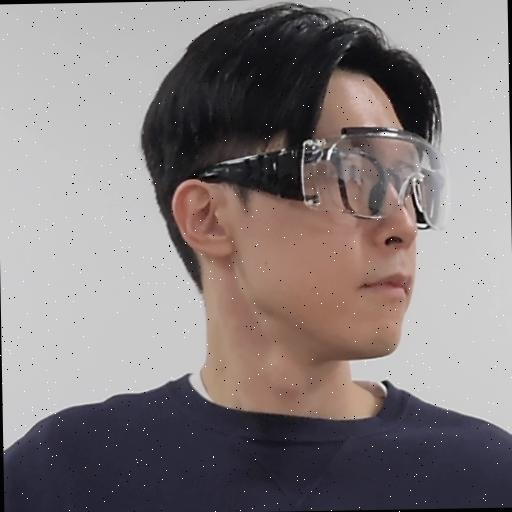glasses: (132, 0, 465, 374)
